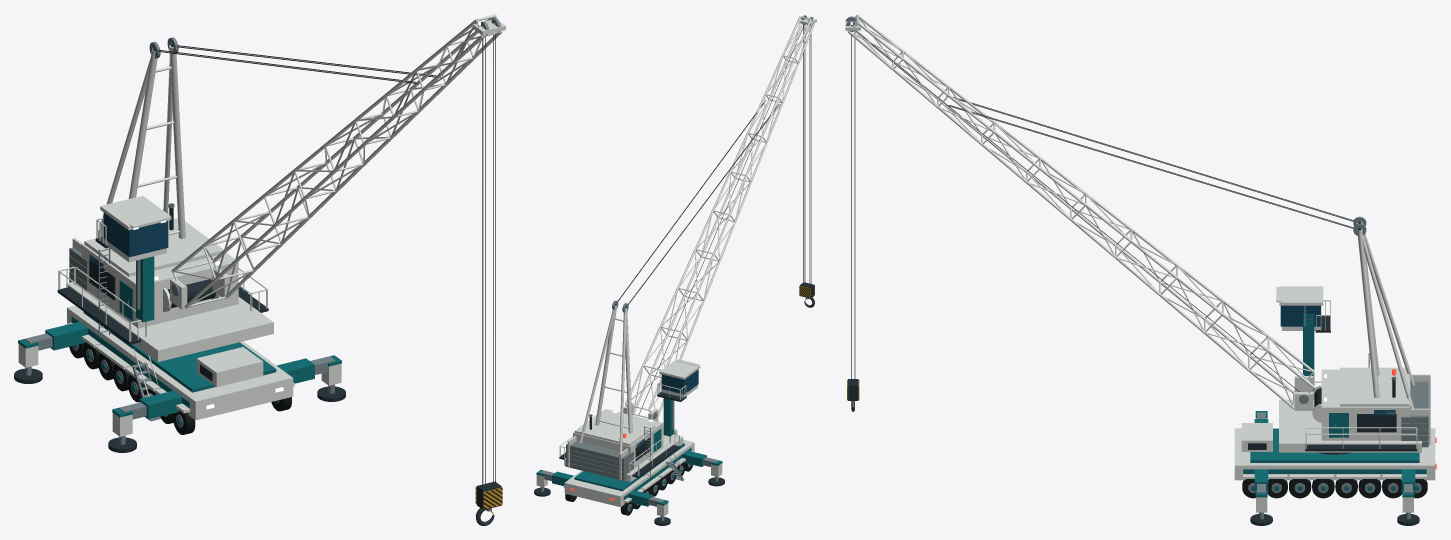
Rendered from mobile_harbour_crane_lod1.glb.
3 views of the same model, side by side, from view 1: azimuth 30°, elevation 25°; view 2: azimuth 150°, elevation 25°; view 3: azimuth 270°, elevation 25° (orthographic). The views are drawn at different scales.
Visible parts, largest first — view 1: slew__simplified, base__simplified, boom__simplified, rigging__simplified, hook__simplified; view 2: slew__simplified, boom__simplified, base__simplified, rigging__simplified; view 3: slew__simplified, boom__simplified, base__simplified, rigging__simplified.
Boxes of the visible parts, x1,y1,x2,y2 form: slew__simplified: (57,37,273,361); base__simplified: (14,287,345,452); boom__simplified: (171,14,505,308); rigging__simplified: (158,34,495,488); hook__simplified: (475,481,502,525); slew__simplified: (559,300,700,481); boom__simplified: (625,14,816,418); base__simplified: (534,426,724,525); rigging__simplified: (617,24,811,414); slew__simplified: (1276,216,1430,454); boom__simplified: (845,14,1314,408); base__simplified: (1233,411,1436,525); rigging__simplified: (851,30,1358,391).
Bounding box in the file's own units: 13.54 × 32.89 × 38.03.
14 materials, 2 textured.
